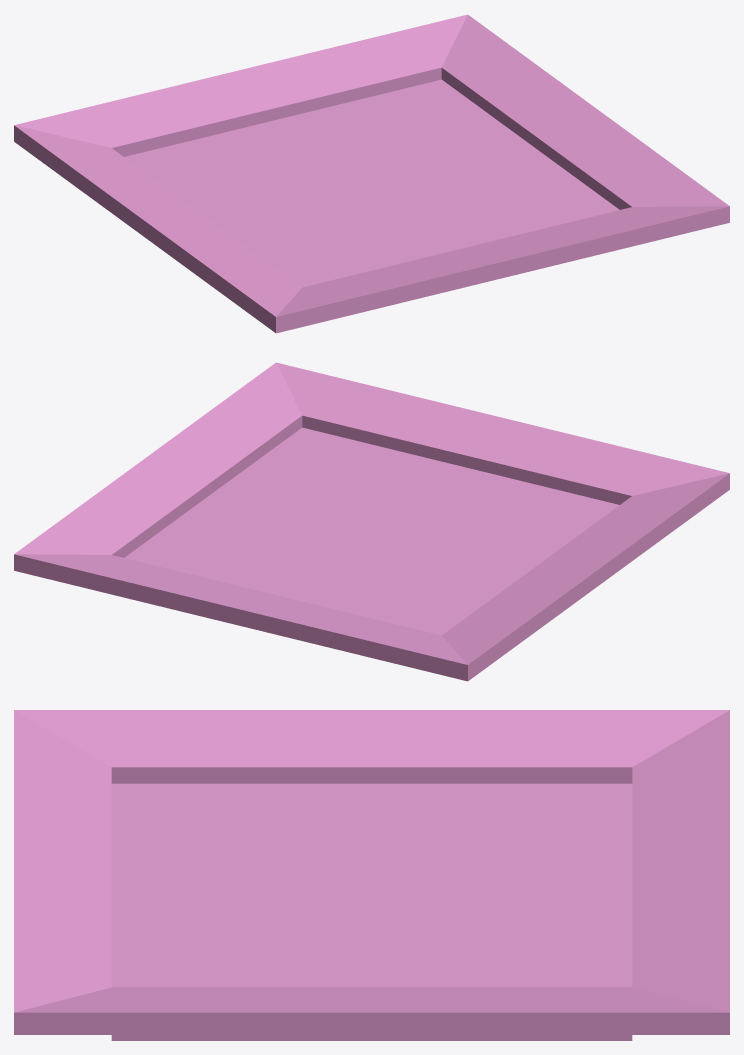
The model's file is Pinggan.fbx.
3 renders of one model, top to bottom at view 1: azimuth 30°, elevation 25°; view 2: azimuth 150°, elevation 25°; view 3: azimuth 270°, elevation 25°, orthographic. The views are drawn at different scales.
Parts seen in each view (by area): view 1: Plate; view 2: Plate; view 3: Plate.
Part boxes in pixels (left/top/right/bottom): Plate: left=14, top=14, right=729, bottom=333; Plate: left=14, top=362, right=729, bottom=681; Plate: left=14, top=710, right=729, bottom=1040.
Size of the model in its own units: 41.32 by 4.43 by 41.32.
